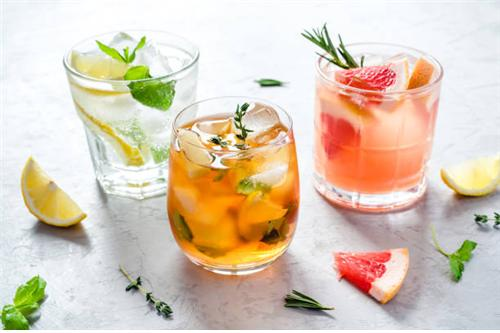alcohol: (165, 95, 296, 275), (59, 32, 198, 198), (312, 40, 443, 213)
